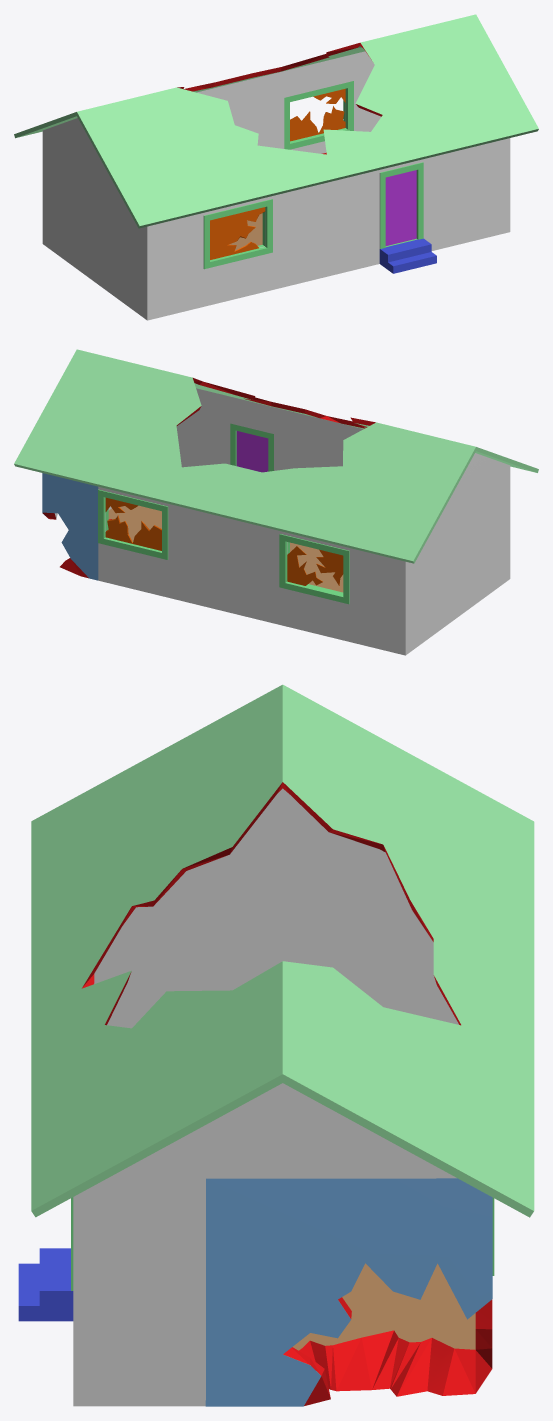
File: GrannyHouseMats.fbx
The picture shows the model from 3 angles, top to bottom: view 1: azimuth 30°, elevation 25°; view 2: azimuth 150°, elevation 25°; view 3: azimuth 270°, elevation 25°; orthographic projection. The views are drawn at different scales.
Visible parts, largest first — view 1: GrannyHouse; view 2: GrannyHouse, HouseCracks; view 3: GrannyHouse, HouseCracks.
Boxes of the visible parts, <box> form: GrannyHouse: <box>14,14,538,320</box>; GrannyHouse: <box>14,349,538,655</box>; HouseCracks: <box>42,473,98,580</box>; GrannyHouse: <box>18,684,534,1406</box>; HouseCracks: <box>205,1178,492,1406</box>.
Size of the model in its own units: 1100 by 461 by 615.
